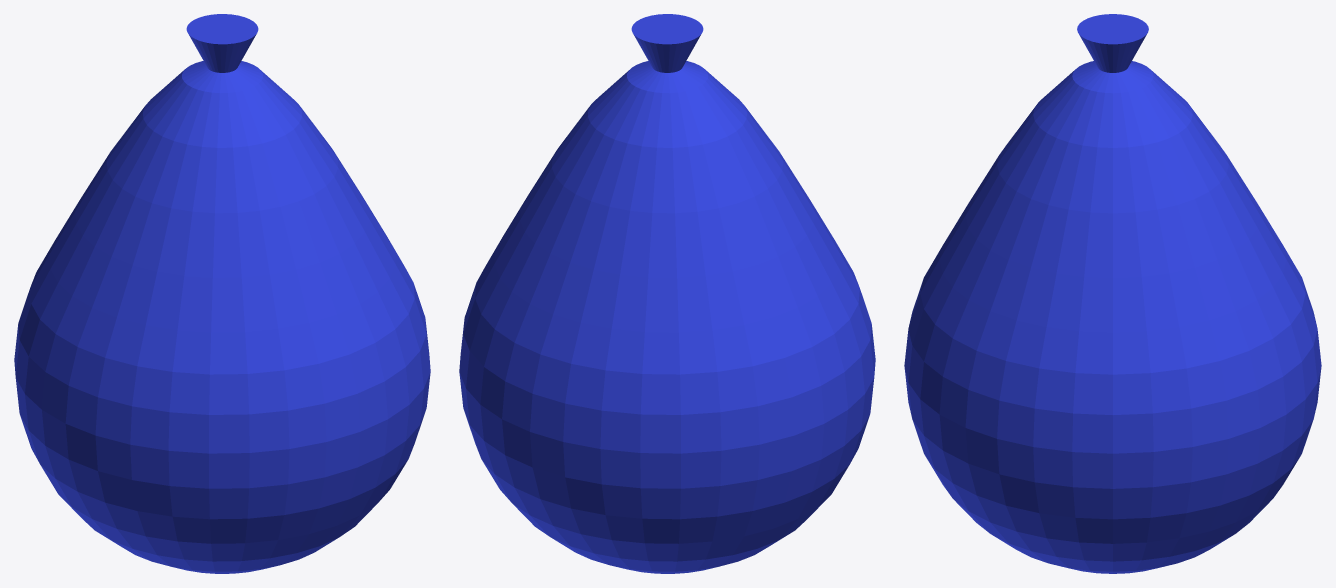
The model's file is balloon.gltf.
The picture shows the model from 3 angles, left to right: view 1: azimuth 30°, elevation 25°; view 2: azimuth 150°, elevation 25°; view 3: azimuth 270°, elevation 25°; orthographic projection.
Visible parts, largest first — view 1: Sphere; view 2: Sphere; view 3: Sphere.
Boxes of the visible parts, x1,y1,x2,y2 form: Sphere: (14, 14, 430, 573); Sphere: (459, 14, 875, 573); Sphere: (904, 14, 1321, 573).
Size of the model in its own units: 2 by 2.78 by 2.
